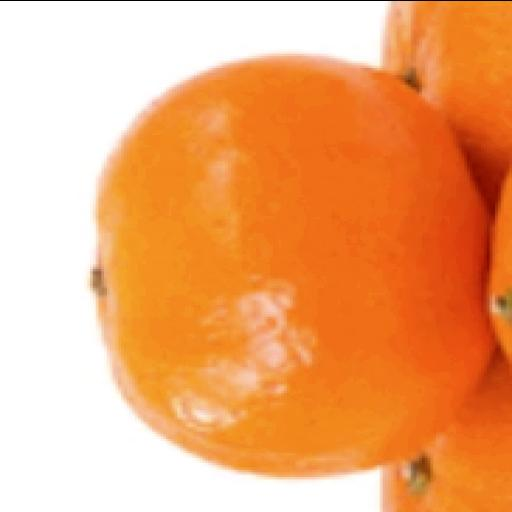orange: (93, 57, 495, 477), (383, 1, 511, 206), (383, 356, 511, 511), (487, 169, 511, 362)
